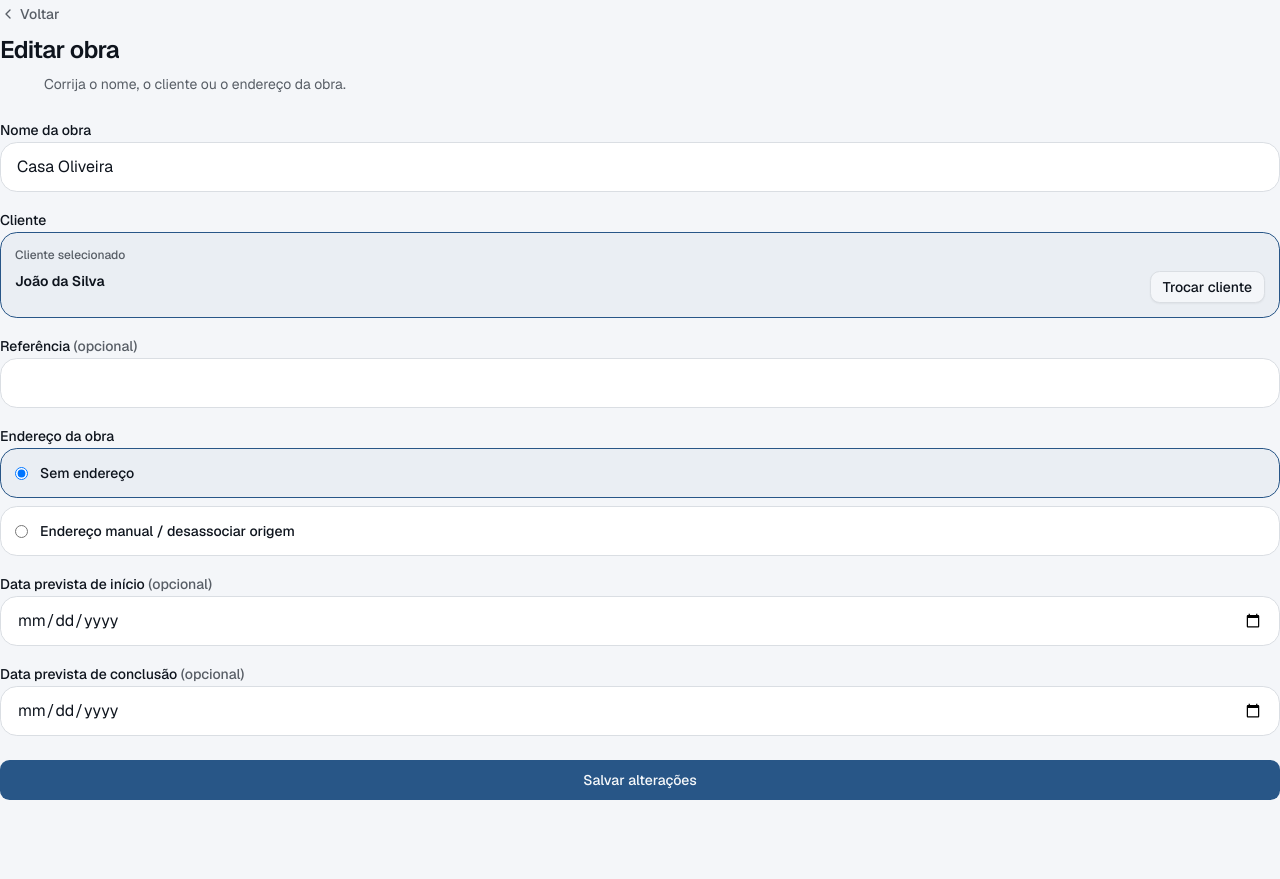
Test: ProjectEditForm › PE11/PE12: a 409 preserves the draft (no auto-retry) and shows a 'Recarregar dados' action
Replace the text in the field labelled "Nome da obra" with "Rascunho do usuário" at (640, 167), box [0,142,1279,192]
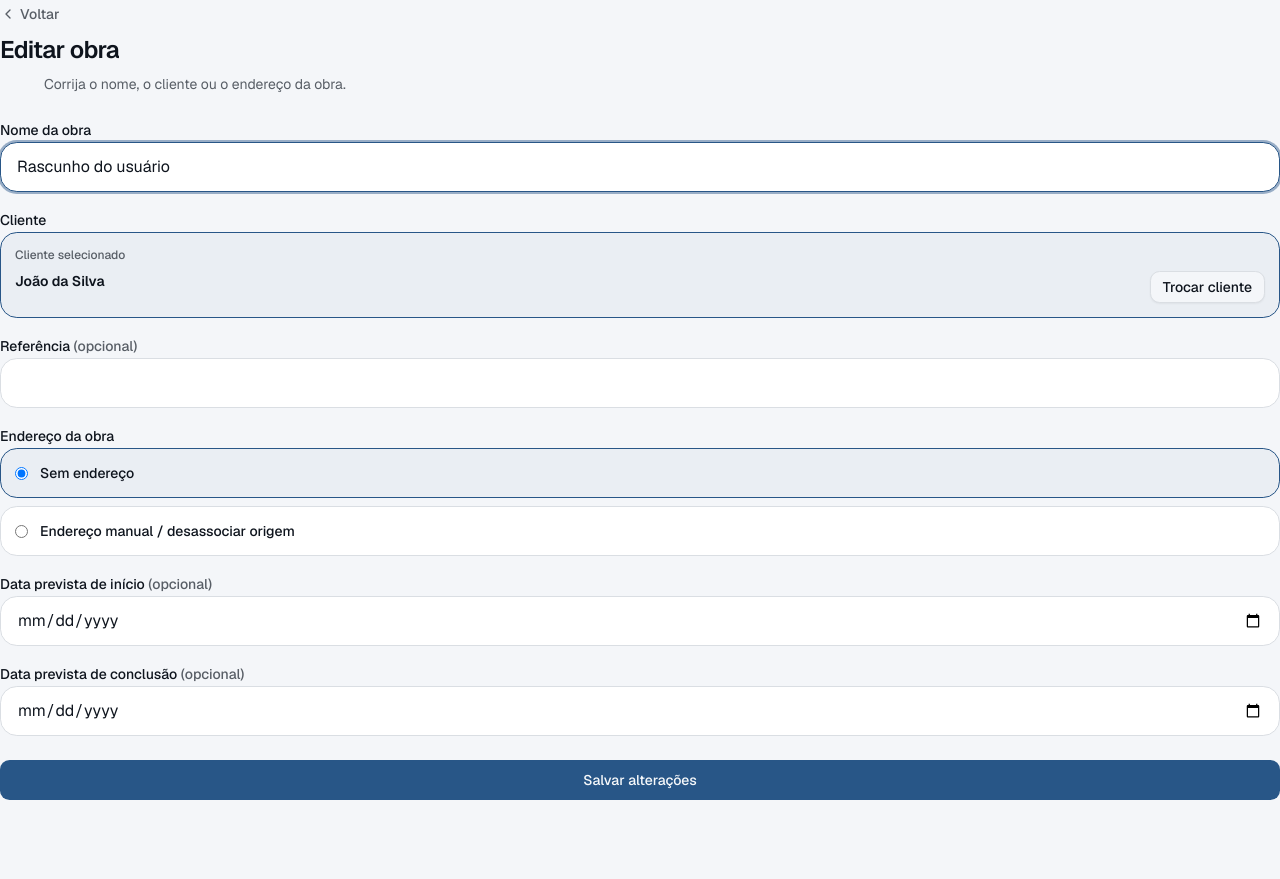
Click the button "Salvar alterações" at (640, 780), box [0,760,1279,800]
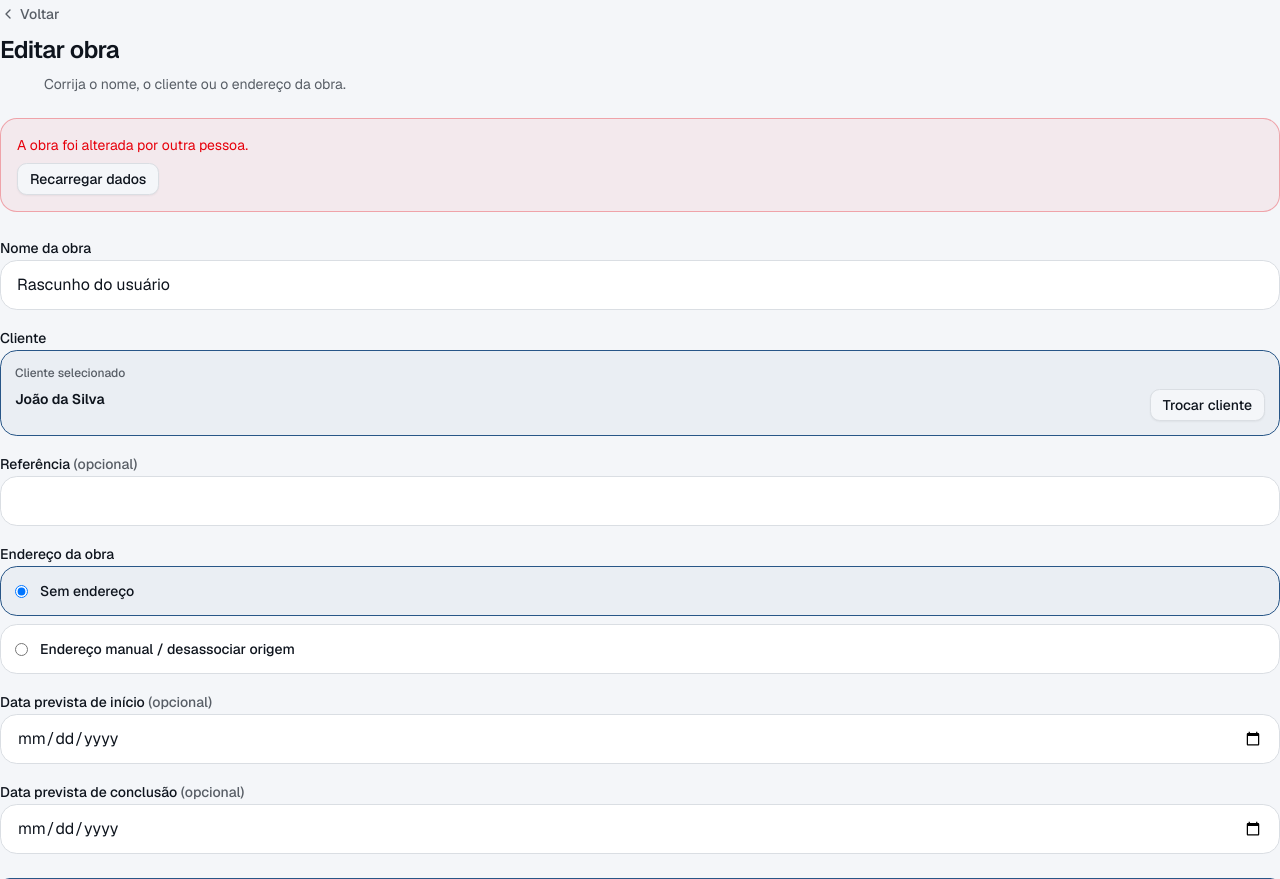
Expected: the text "A obra foi alterada por outra pessoa." is shown, [17,136,248,154]
Click the button "Recarregar dados" at (88, 179), box [17,163,159,195]
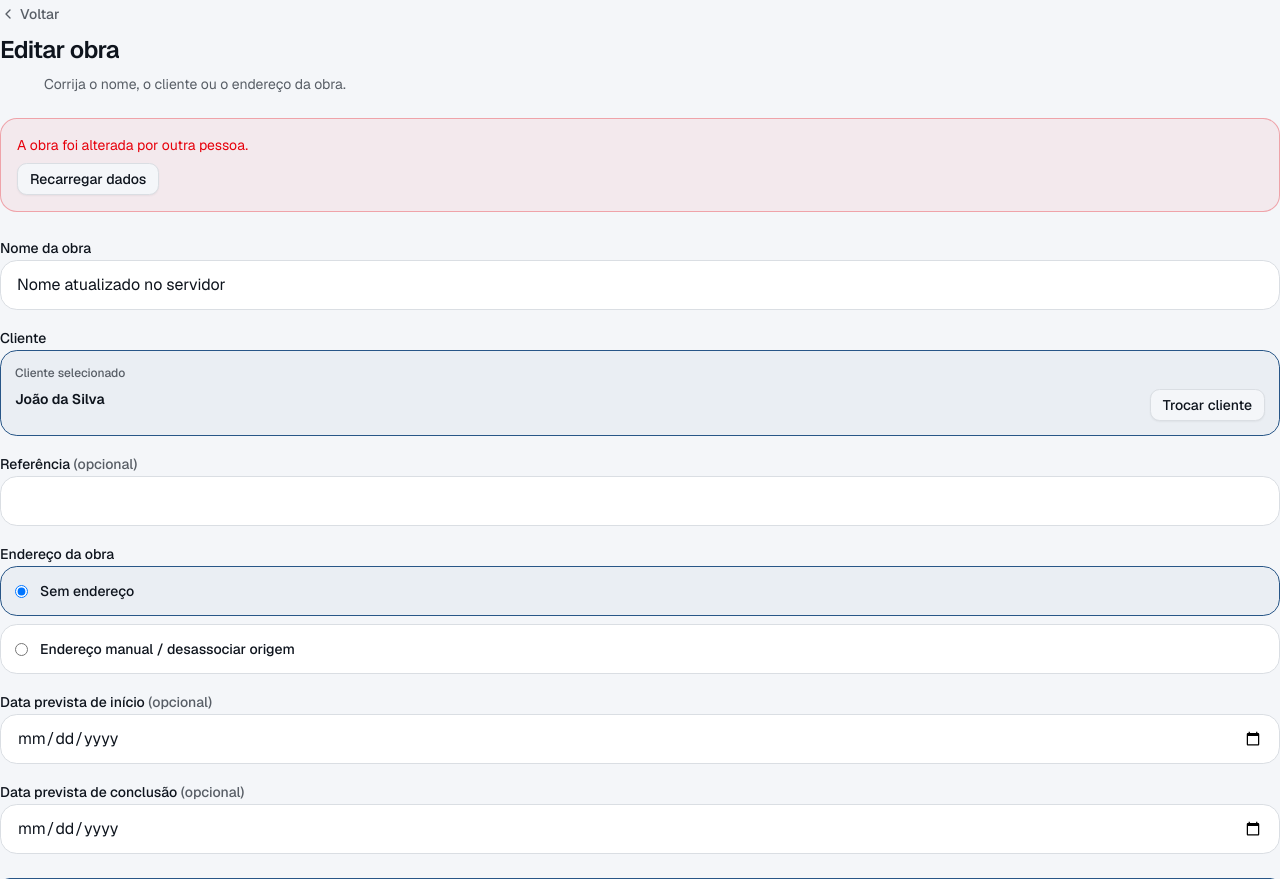
Expected: the field labelled "Nome da obra" holds "Nome atualizado no servidor", [0,260,1279,310]
